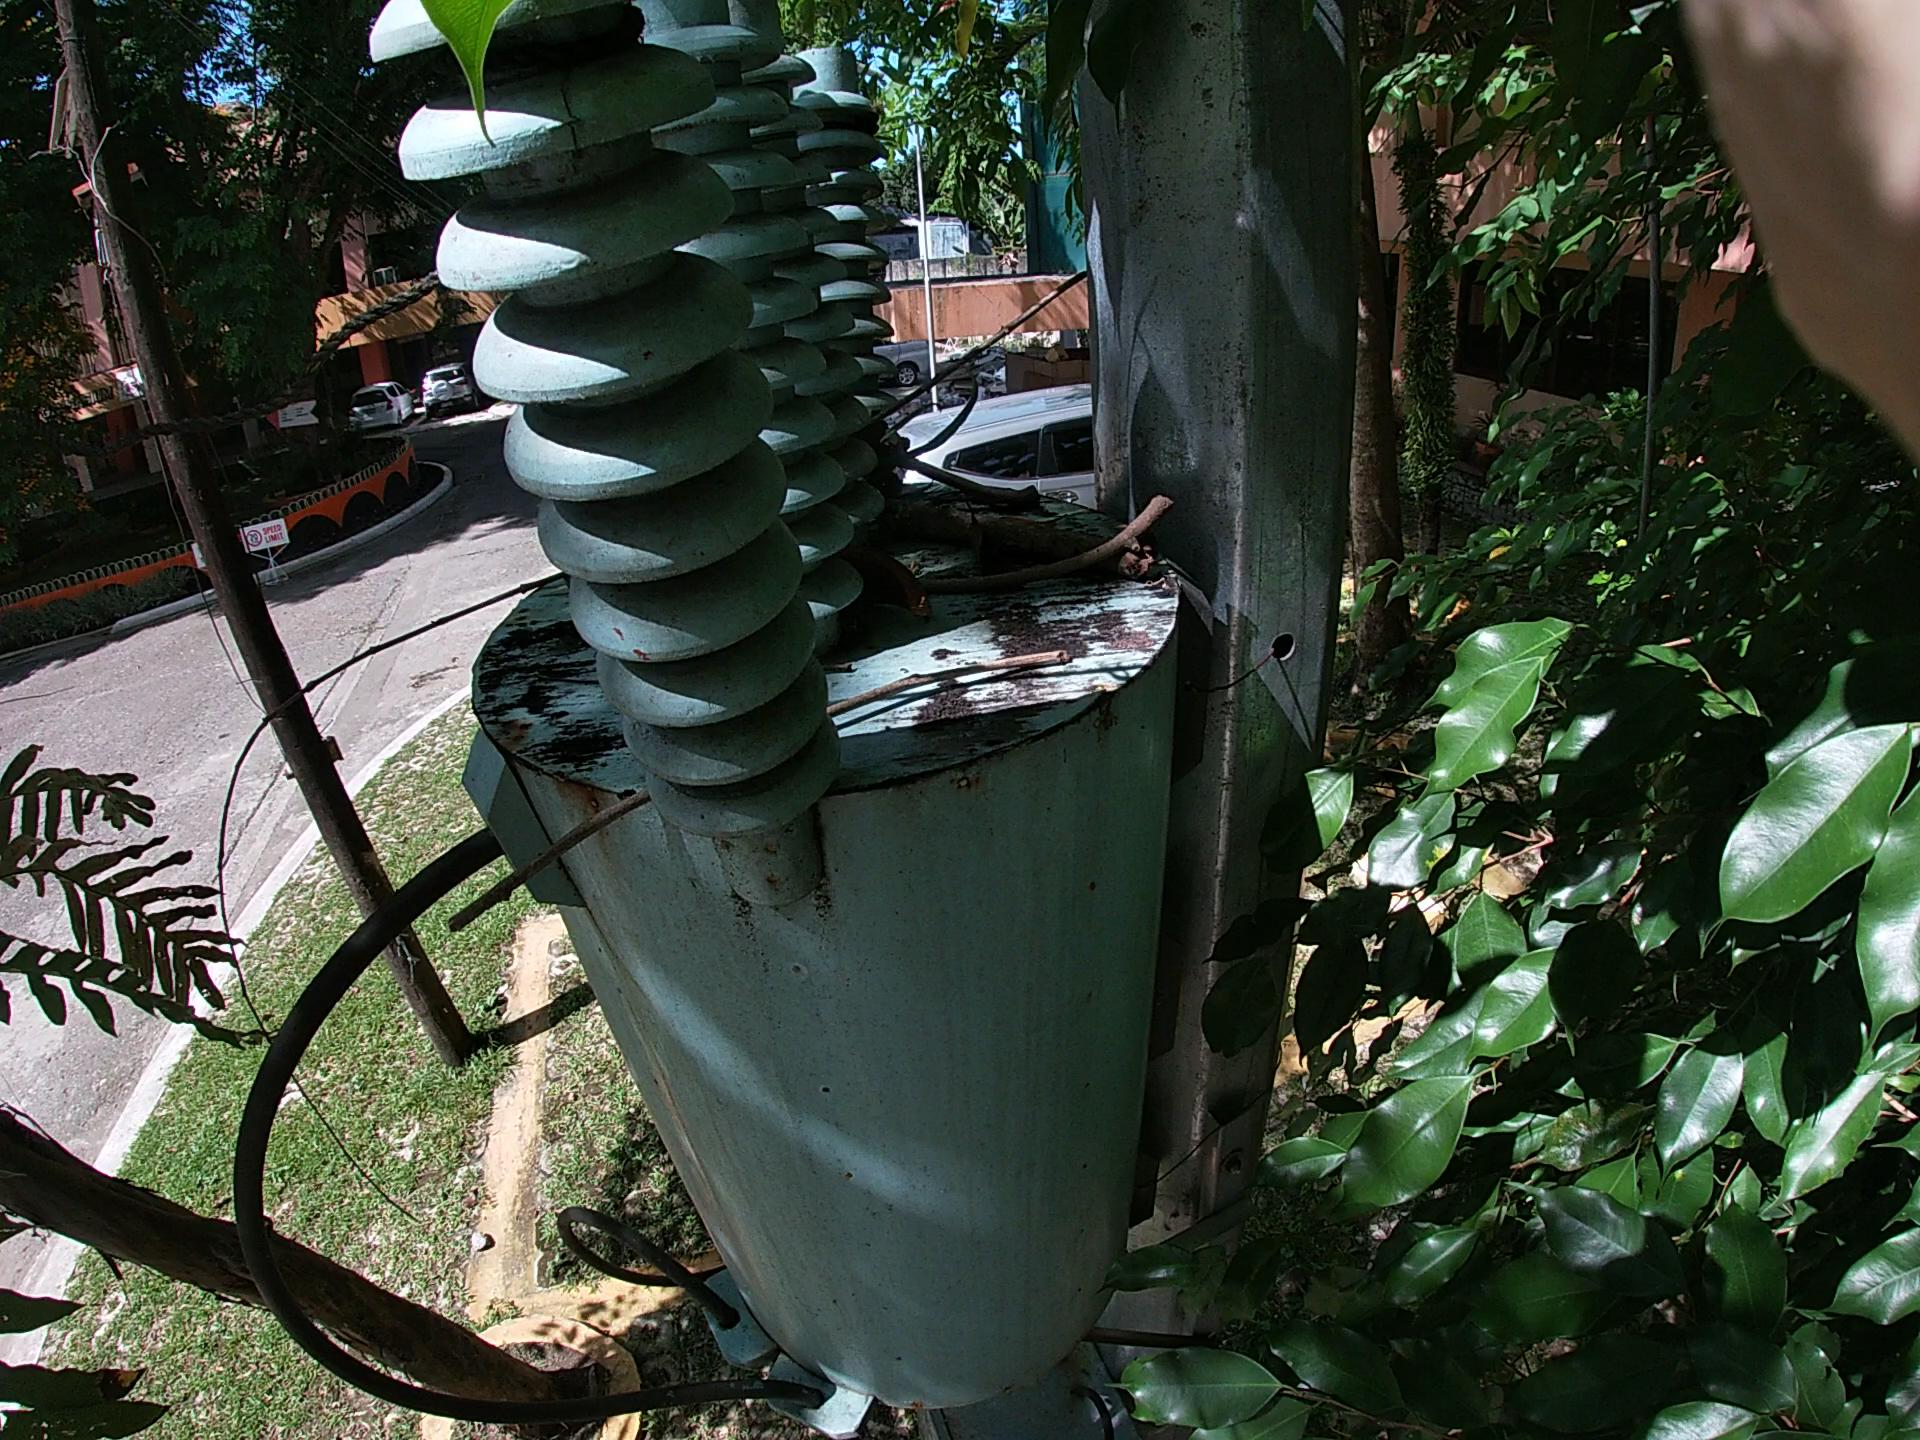branch with leaves: (845, 476, 1217, 622)
tree branch: (452, 649, 1113, 945), (807, 200, 1190, 464), (857, 495, 1172, 650), (863, 417, 1051, 510)
